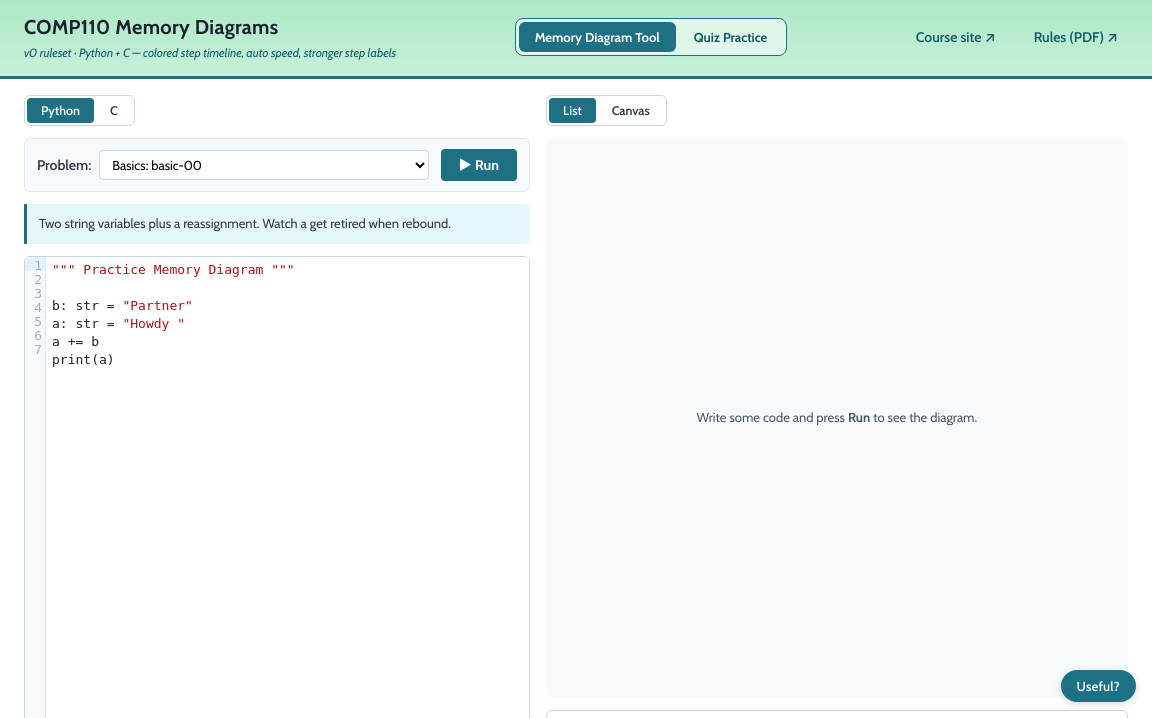
Test: App UX — error banner for broken source › surfaces a parse error when the source is invalid
Select "Write your own" in the dropdown at x=264, y=165, box left=99, top=150, right=428, bottom=180
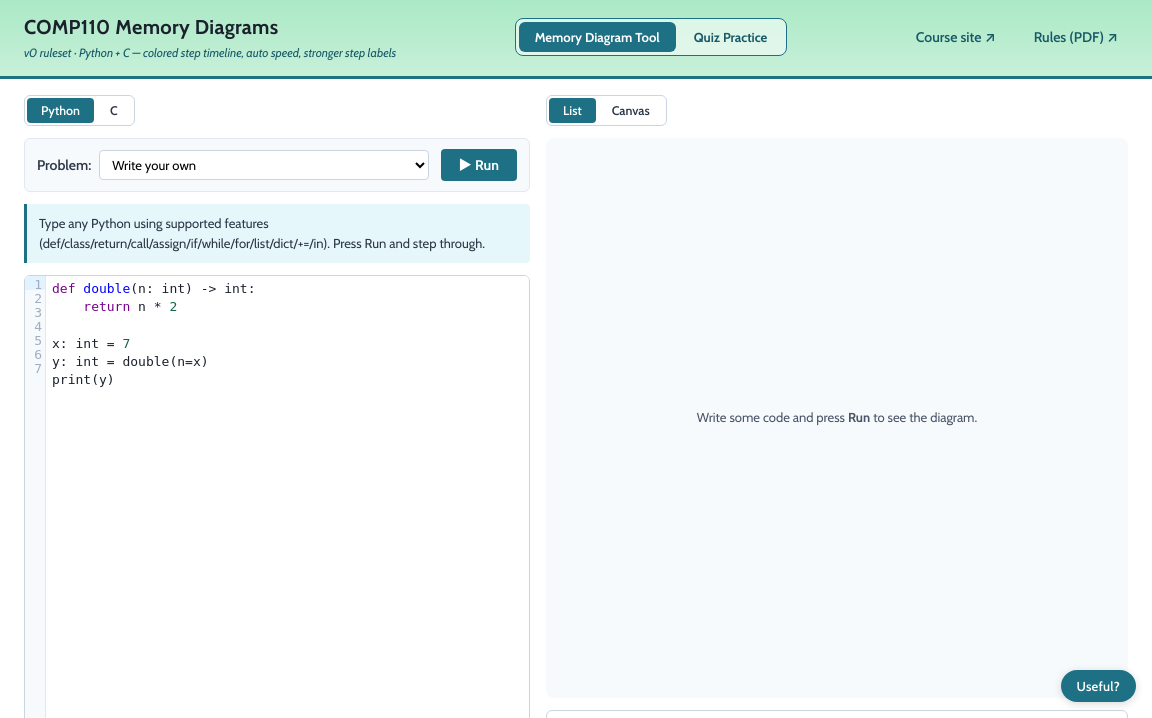
Click the button "▶ Run".
click(479, 165)  # box left=440, top=149, right=517, bottom=181
(page scrolled)
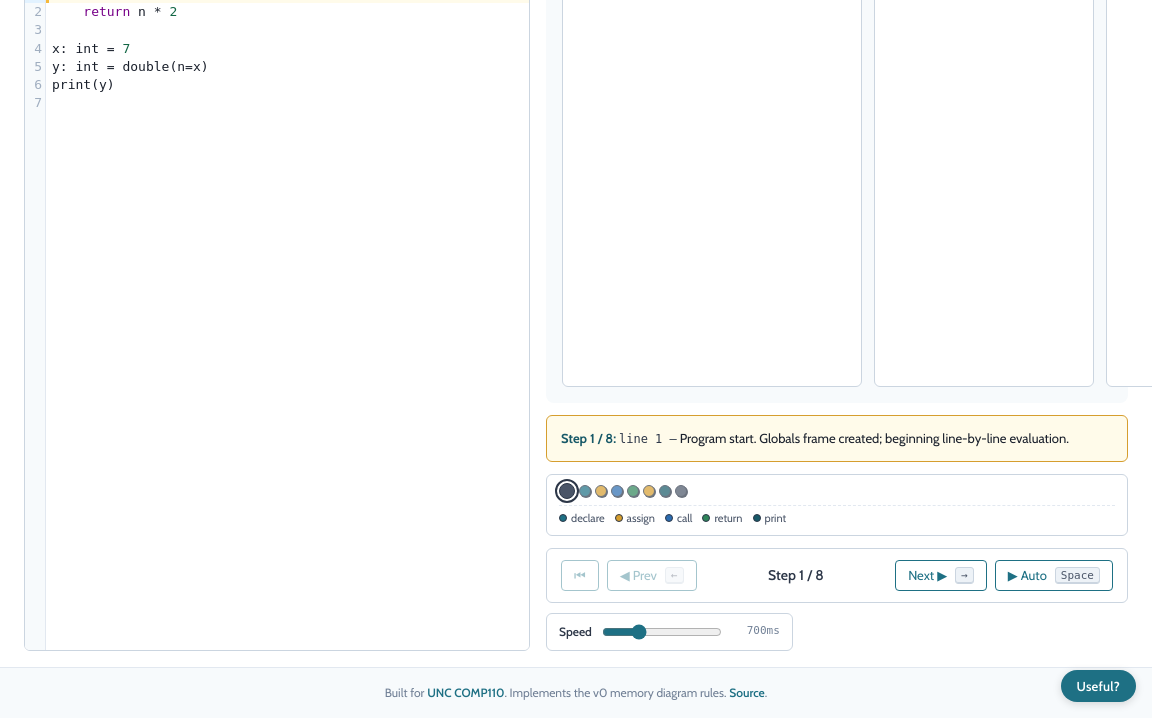
expect the text "Step 1 / 8:" is shown: met, box left=561, top=430, right=616, bottom=446
